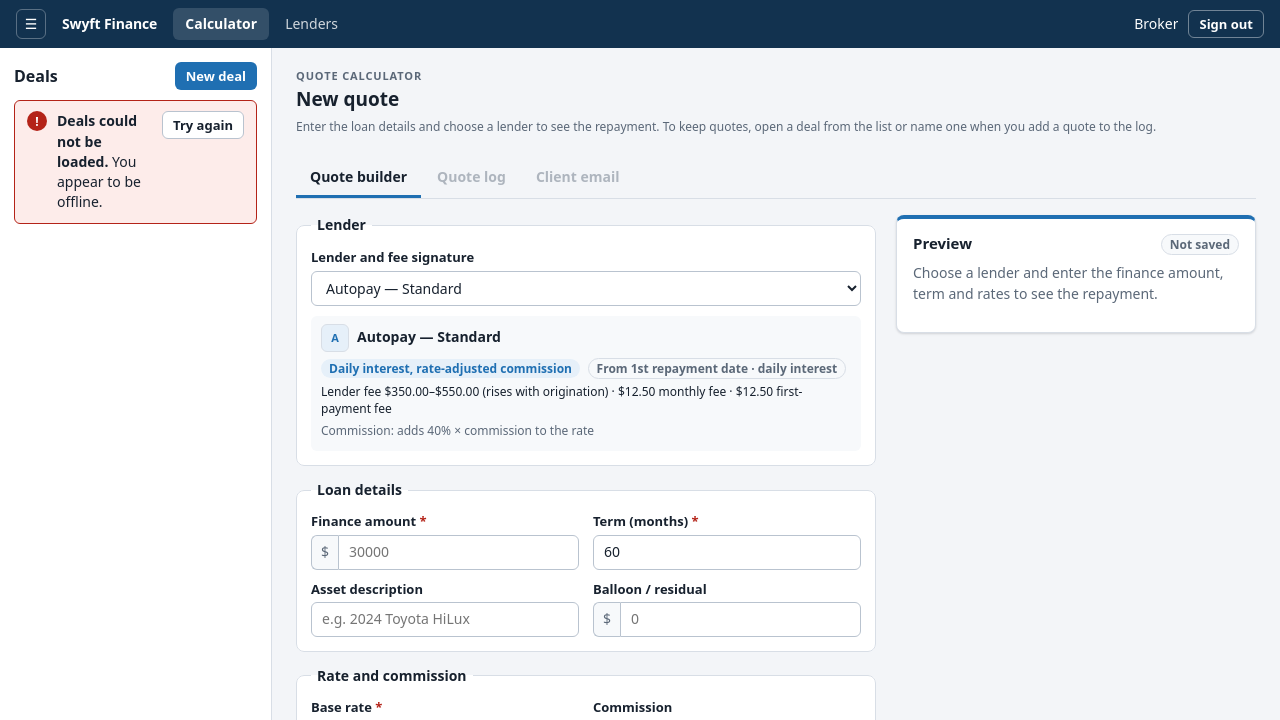
Scenario: deal workflow › shows an offline error with retry when deals cannot load
The image size is (1280, 720).
Check: the text "Deals could not be loaded." is shown, box [57, 111, 137, 171]
Click the button "Try again": (203, 125) [162, 111, 244, 139]
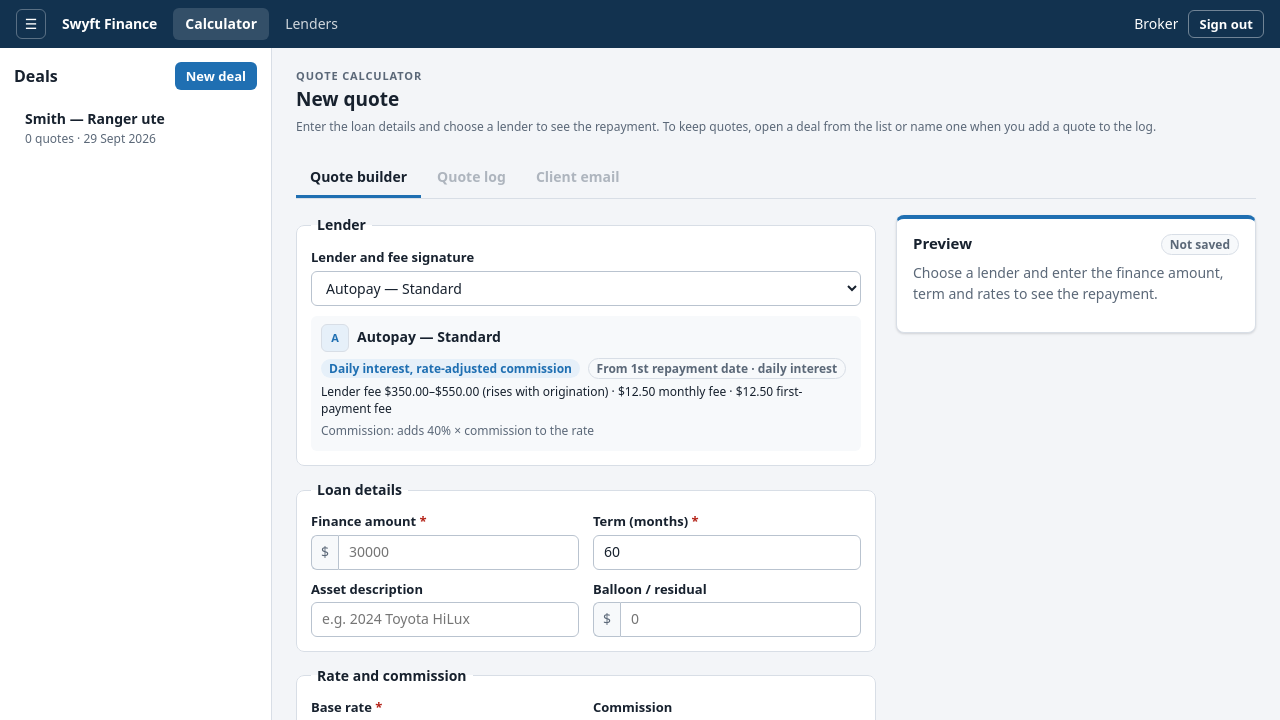
Check: the text "Smith — Ranger ute" is shown, box [25, 109, 165, 130]
